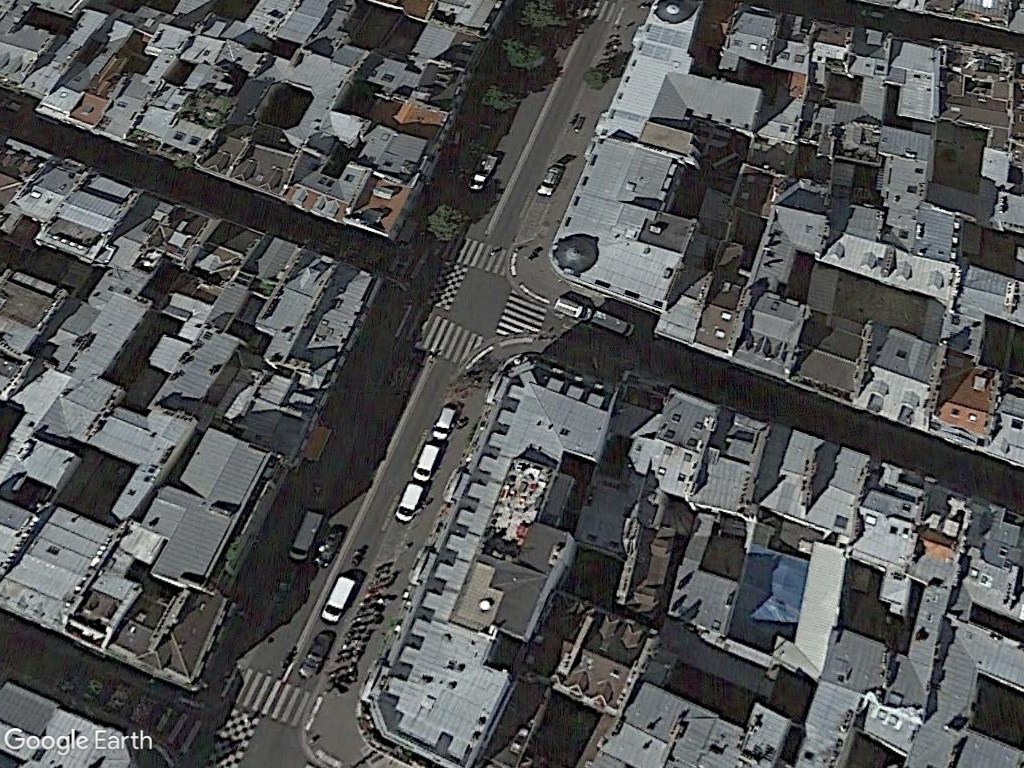car: (296, 624, 339, 684), (535, 155, 567, 203)
van: (318, 570, 359, 625), (288, 507, 327, 559), (392, 477, 427, 525), (410, 436, 441, 486), (429, 399, 459, 446)
